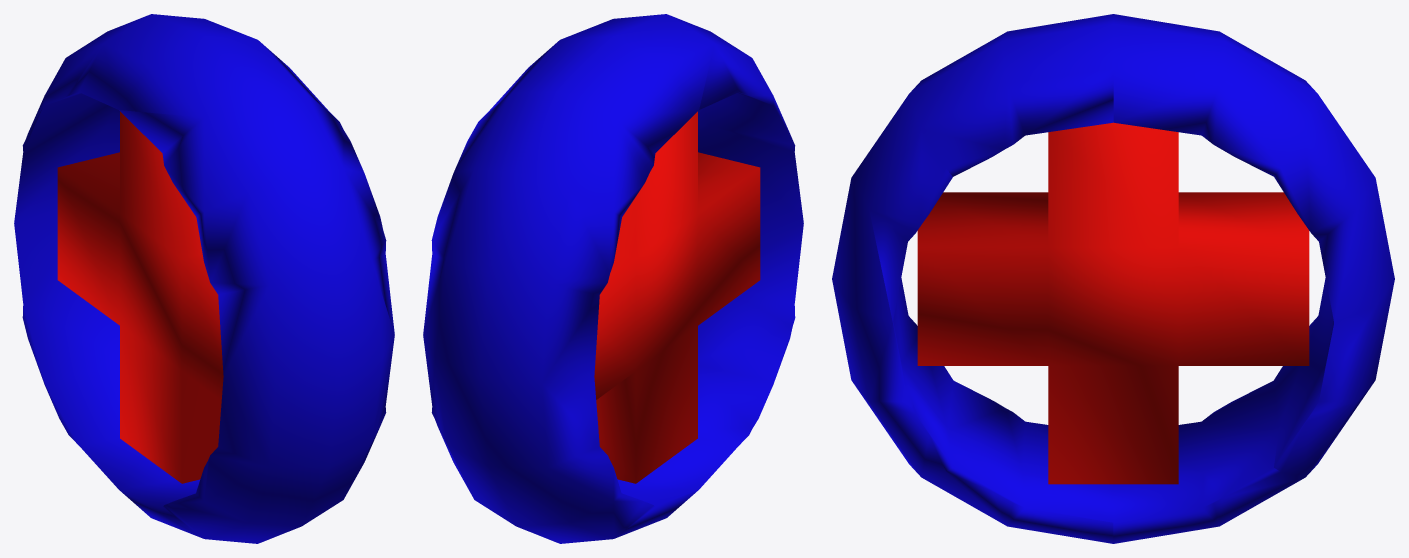
File: Healt.fbx
3 views of the same model, side by side, from view 1: azimuth 30°, elevation 25°; view 2: azimuth 150°, elevation 25°; view 3: azimuth 270°, elevation 25° (orthographic). The views are drawn at different scales.
Visible parts, largest first — view 1: Healt; view 2: Healt; view 3: Healt.
Part boxes in pixels (box(x1,y1,x2,y2)): Healt: box(14, 14, 394, 543); Healt: box(423, 14, 803, 543); Healt: box(832, 14, 1394, 543).
Bounding box in the file's own units: 12.7 × 33.36 × 33.36.
